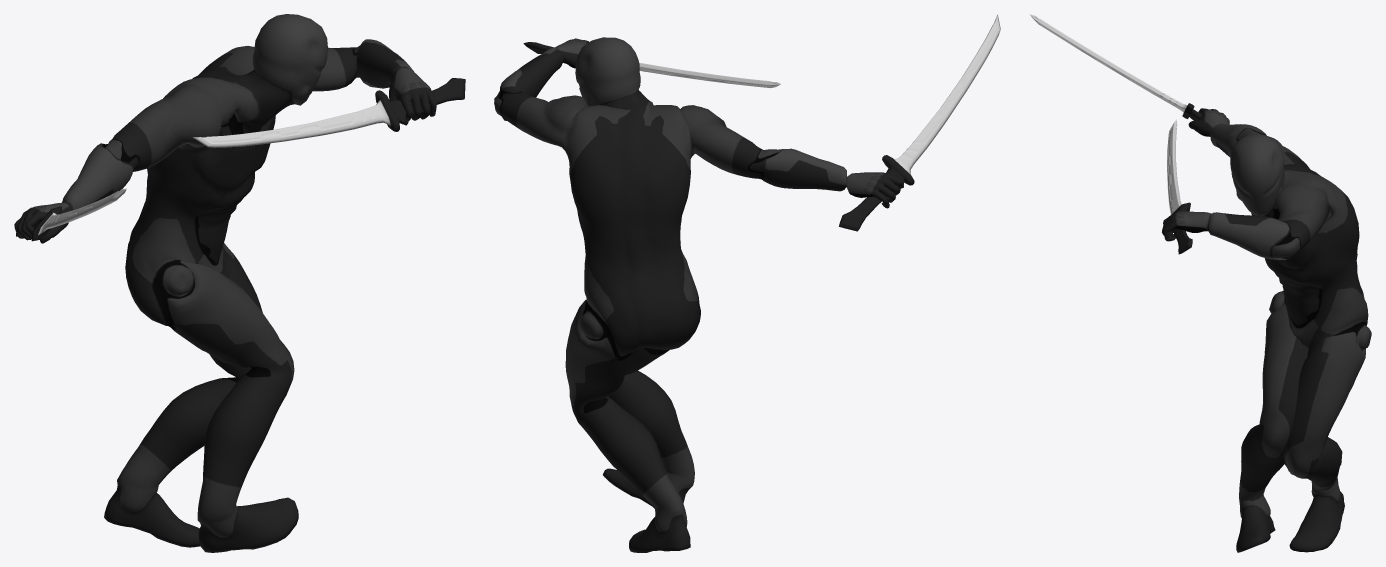
3 renders of one model, left to right at view 1: azimuth 30°, elevation 25°; view 2: azimuth 150°, elevation 25°; view 3: azimuth 270°, elevation 25°, orthographic. The views are drawn at different scales.
Visible parts, largest first — view 1: Cyborg_Ninja_Killer, Sword_l, Sword_l001; view 2: Cyborg_Ninja_Killer, Sword_l001, Sword_l; view 3: Cyborg_Ninja_Killer, Sword_l001, Sword_l.
Boxes of the visible parts, x1,y1,x2,y2 form: Cyborg_Ninja_Killer: [14, 14, 436, 552]; Sword_l: [193, 78, 465, 147]; Sword_l001: [16, 188, 126, 241]; Cyborg_Ninja_Killer: [494, 37, 903, 552]; Sword_l001: [839, 14, 1000, 231]; Sword_l: [523, 42, 780, 88]; Cyborg_Ninja_Killer: [1162, 108, 1371, 552]; Sword_l001: [1029, 14, 1201, 120]; Sword_l: [1167, 119, 1192, 254].
Size of the model in its own units: 140 by 160 by 113.
2 materials, 2 textured.
